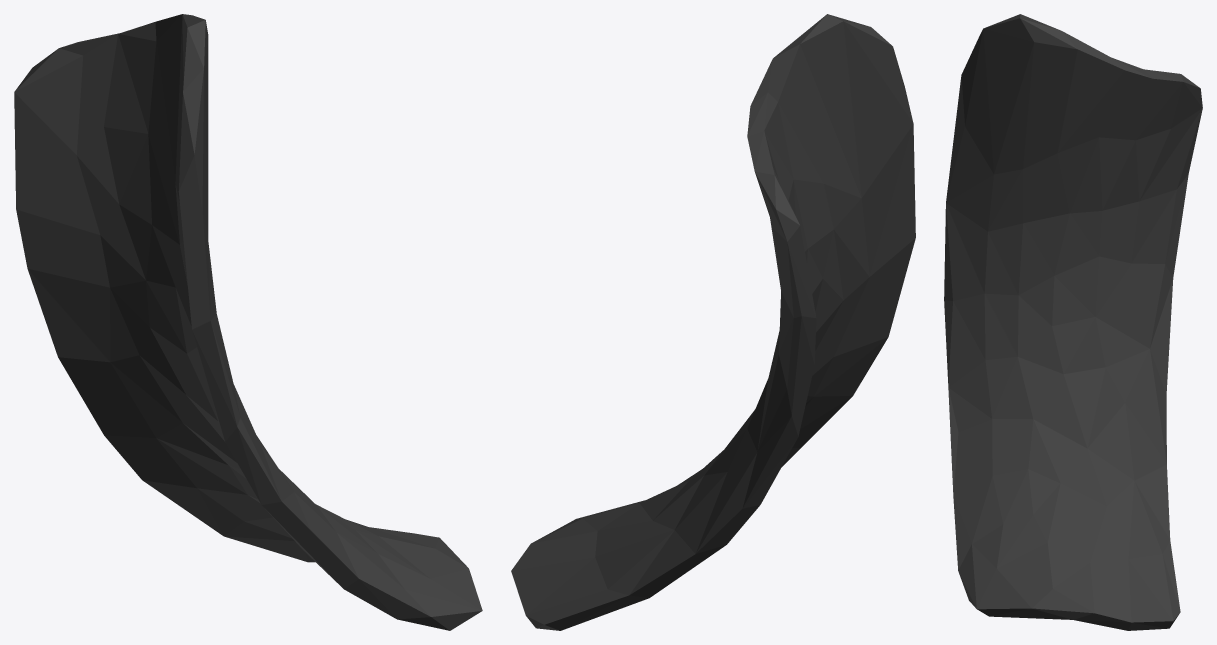
The model's file is Femur_trochlea.glb.
3 renders of one model, left to right at view 1: azimuth 30°, elevation 25°; view 2: azimuth 150°, elevation 25°; view 3: azimuth 270°, elevation 25°, orthographic. The views are drawn at different scales.
Visible parts, largest first — view 1: Femur_trochlea; view 2: Femur_trochlea; view 3: Femur_trochlea.
Part boxes in pixels (box(x1,y1,x2,y2)): Femur_trochlea: box(14, 14, 482, 630); Femur_trochlea: box(511, 14, 915, 630); Femur_trochlea: box(944, 14, 1202, 630).
Bounding box in the file's own units: 0.024 × 0.0413 × 0.0185.
1 material, 1 textured.
